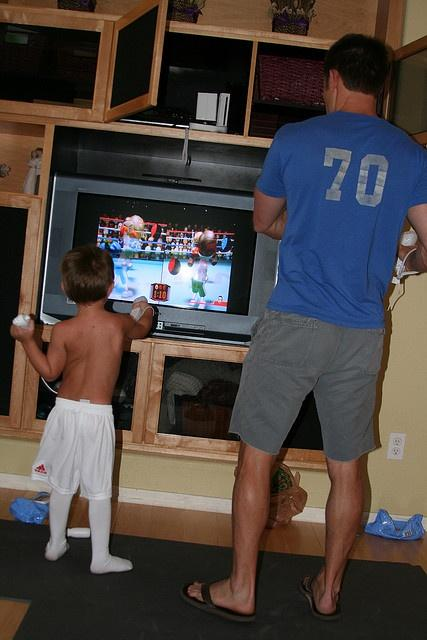AIO PC-Monitor-TV: (38, 170, 278, 346)
